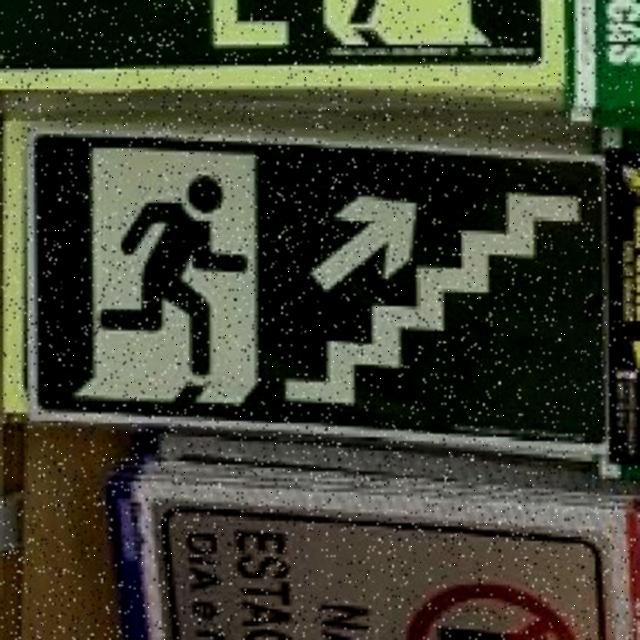emergency_exit: (20, 125, 613, 461), (108, 459, 640, 640)
